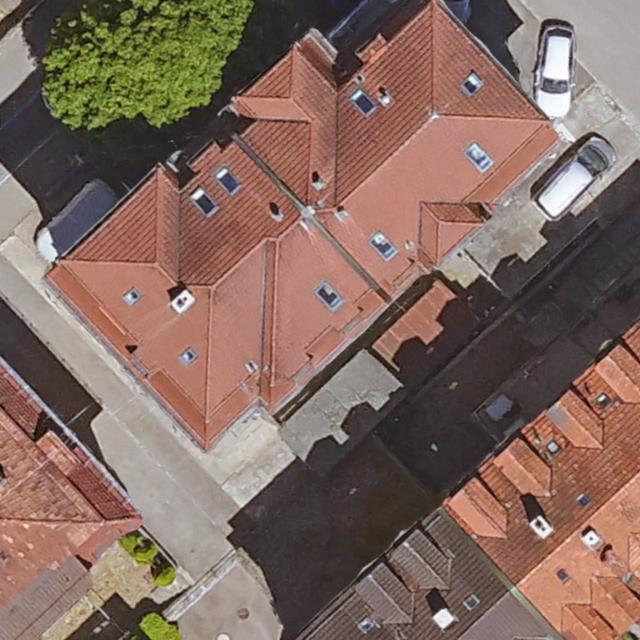tree: (45, 2, 233, 131)
